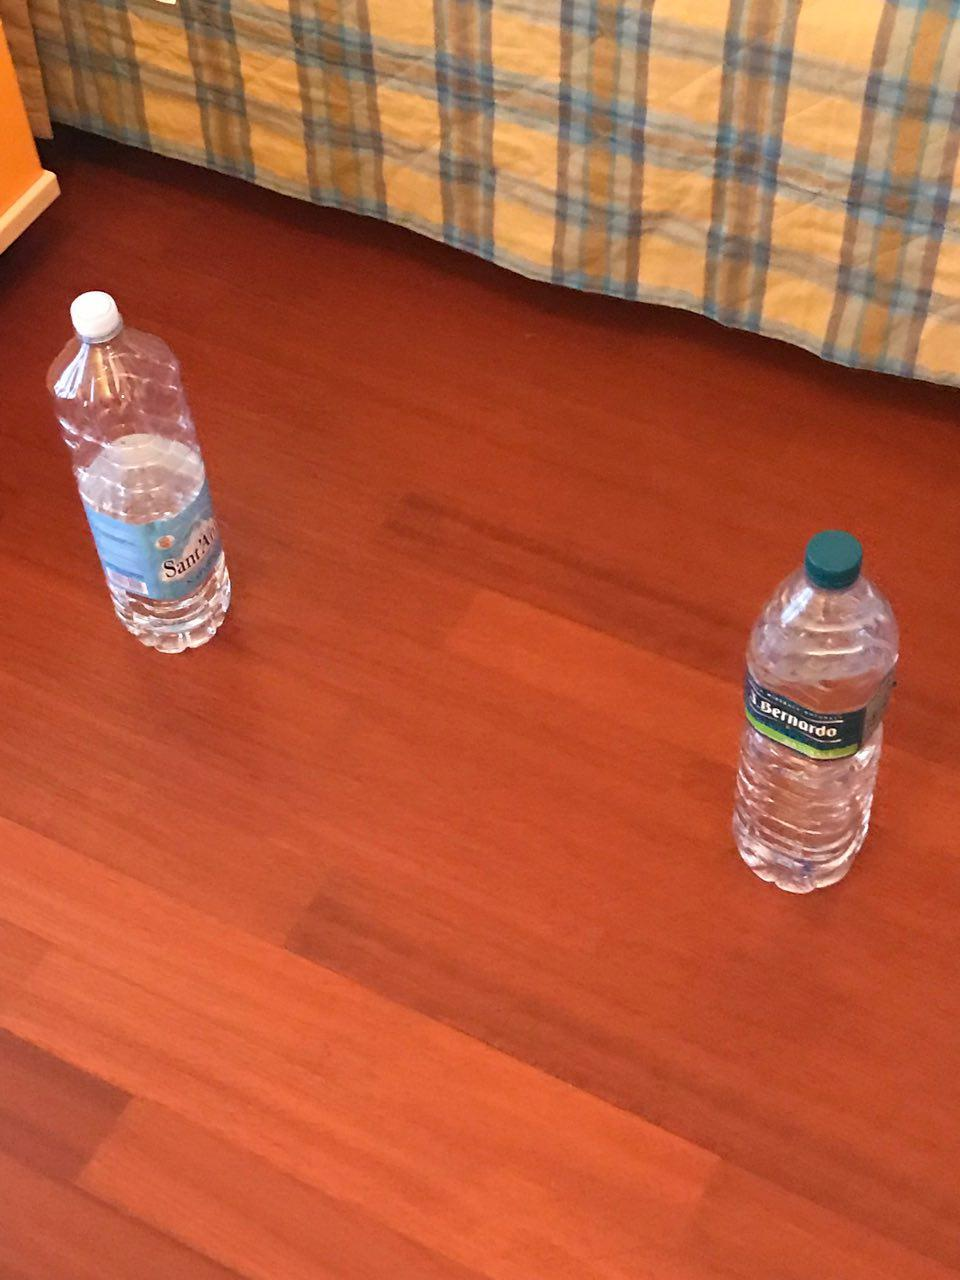san_bernardo: (727, 528, 899, 898)
